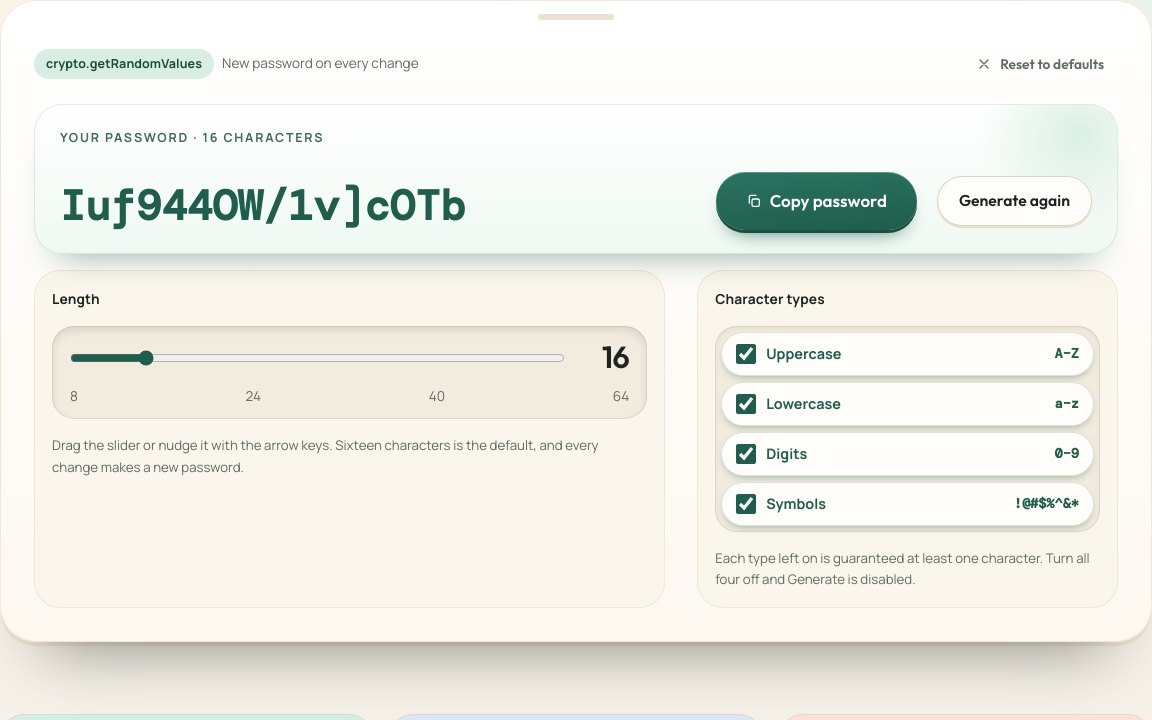
Test: PasswordGenerator › disables Generate and says why when every class is turned off, leaving the password alone
This screenshot has width=1152, height=720.
Click the checkbox labelled "Uppercase A–Z": {"x": 746, "y": 354} [736, 344, 756, 364]
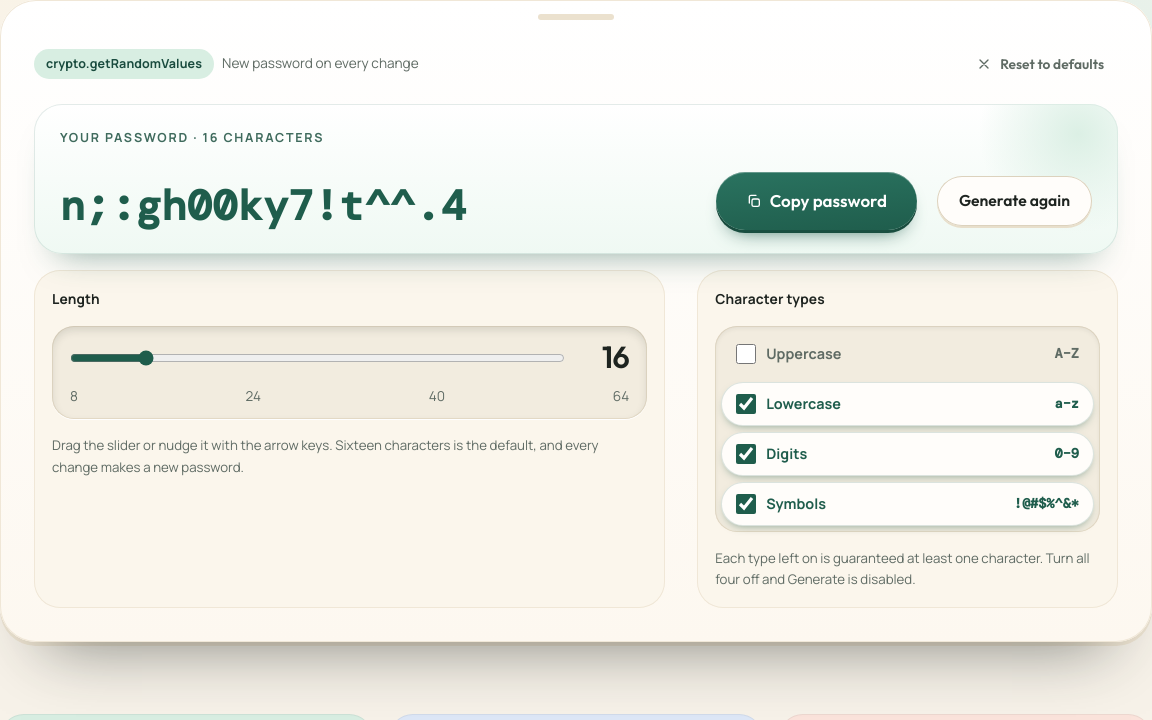
Click the checkbox labelled "Digits 0–9": {"x": 746, "y": 454} [736, 444, 756, 464]
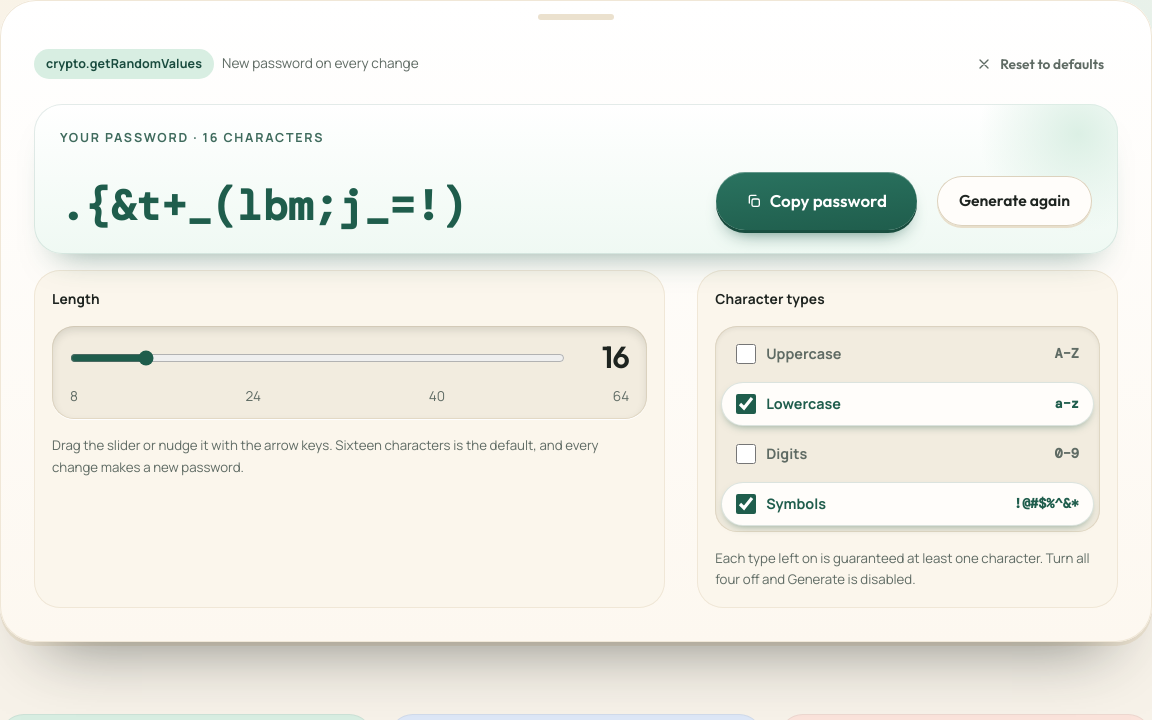
Click the checkbox labelled "Symbols !@#$%^&*": {"x": 746, "y": 504} [736, 494, 756, 514]
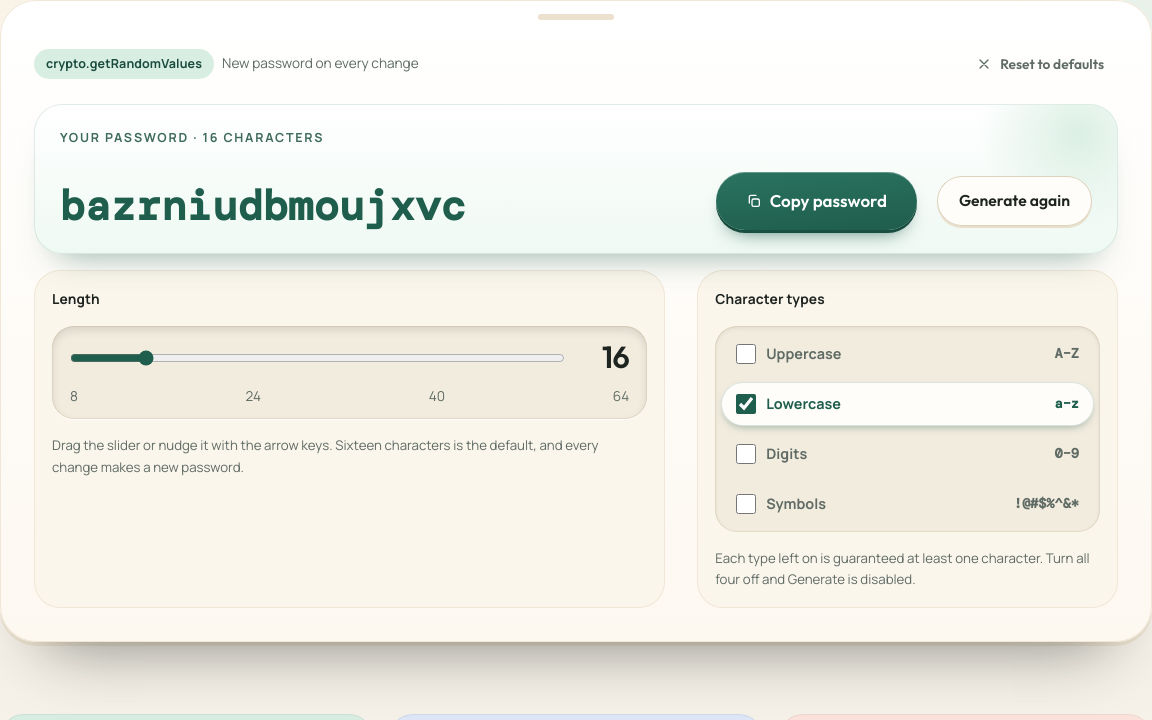
Click the checkbox labelled "Lowercase a–z": {"x": 746, "y": 404} [736, 394, 756, 414]
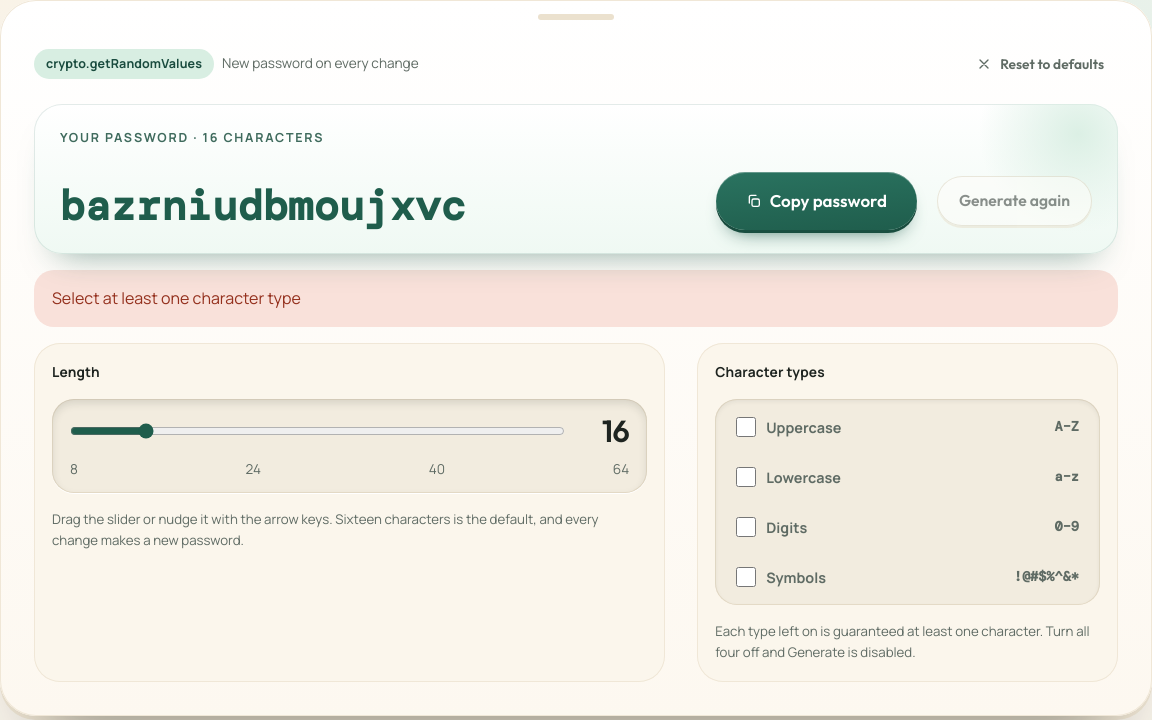
Check: the button "Generate again" is disabled, box [937, 176, 1092, 226]
Check: the message reads "Select at least one character type", box [52, 287, 301, 309]
Click the checkbox labelled "Digits 0–9": {"x": 746, "y": 527} [736, 517, 756, 537]
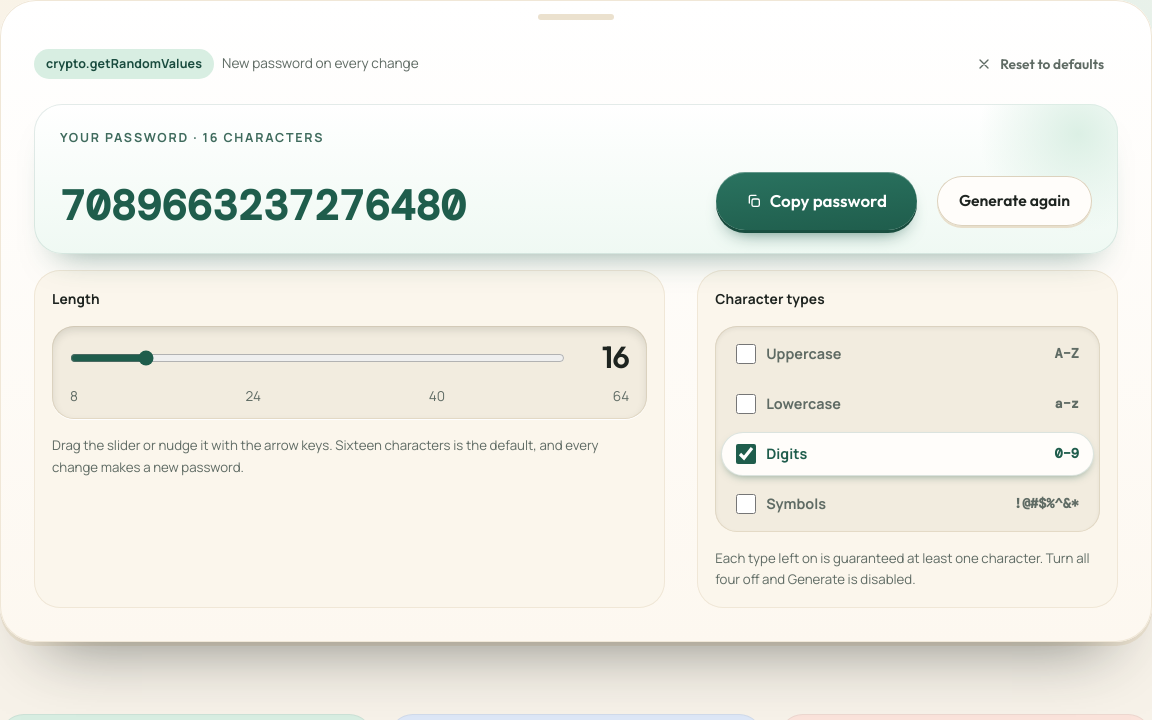
Check: the button "Generate again" is enabled, box [937, 176, 1092, 226]
Check: the message "Select at least one character type" is gone
